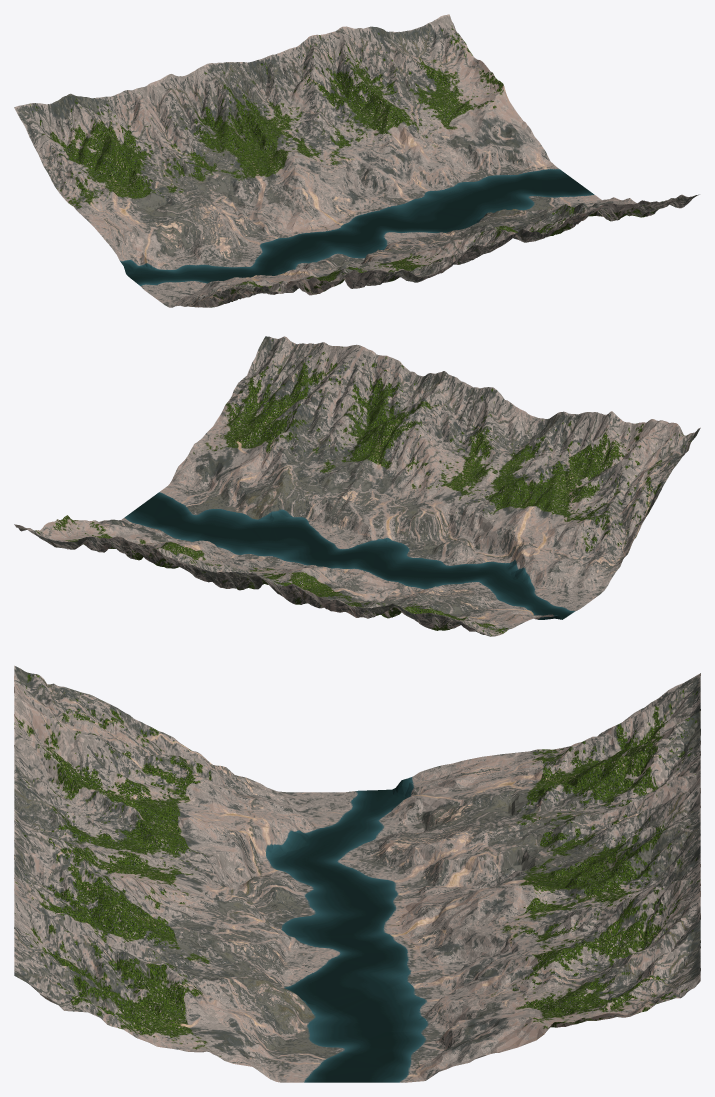
File: MountFinally4.fbx
3 views of the same model, one above another, from view 1: azimuth 30°, elevation 25°; view 2: azimuth 150°, elevation 25°; view 3: azimuth 270°, elevation 25° (orthographic). The views are drawn at different scales.
Parts seen in each view (by area): view 1: Mesher.002; view 2: Mesher.002; view 3: Mesher.002.
Boxes of the visible parts, x1,y1,x2,y2 form: Mesher.002: (14, 14, 699, 307); Mesher.002: (14, 336, 700, 636); Mesher.002: (14, 665, 700, 1082).
Size of the model in its own units: 100 by 20.41 by 100.
